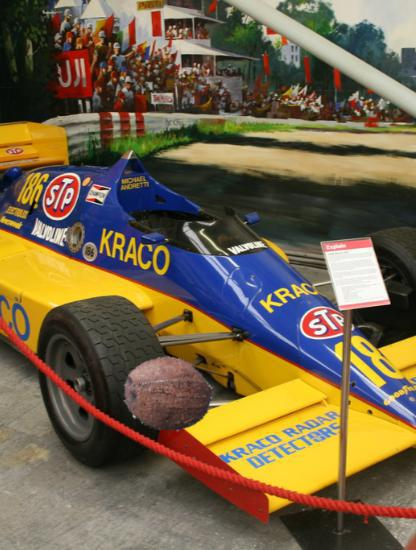Cocos: (123, 349, 214, 440)
